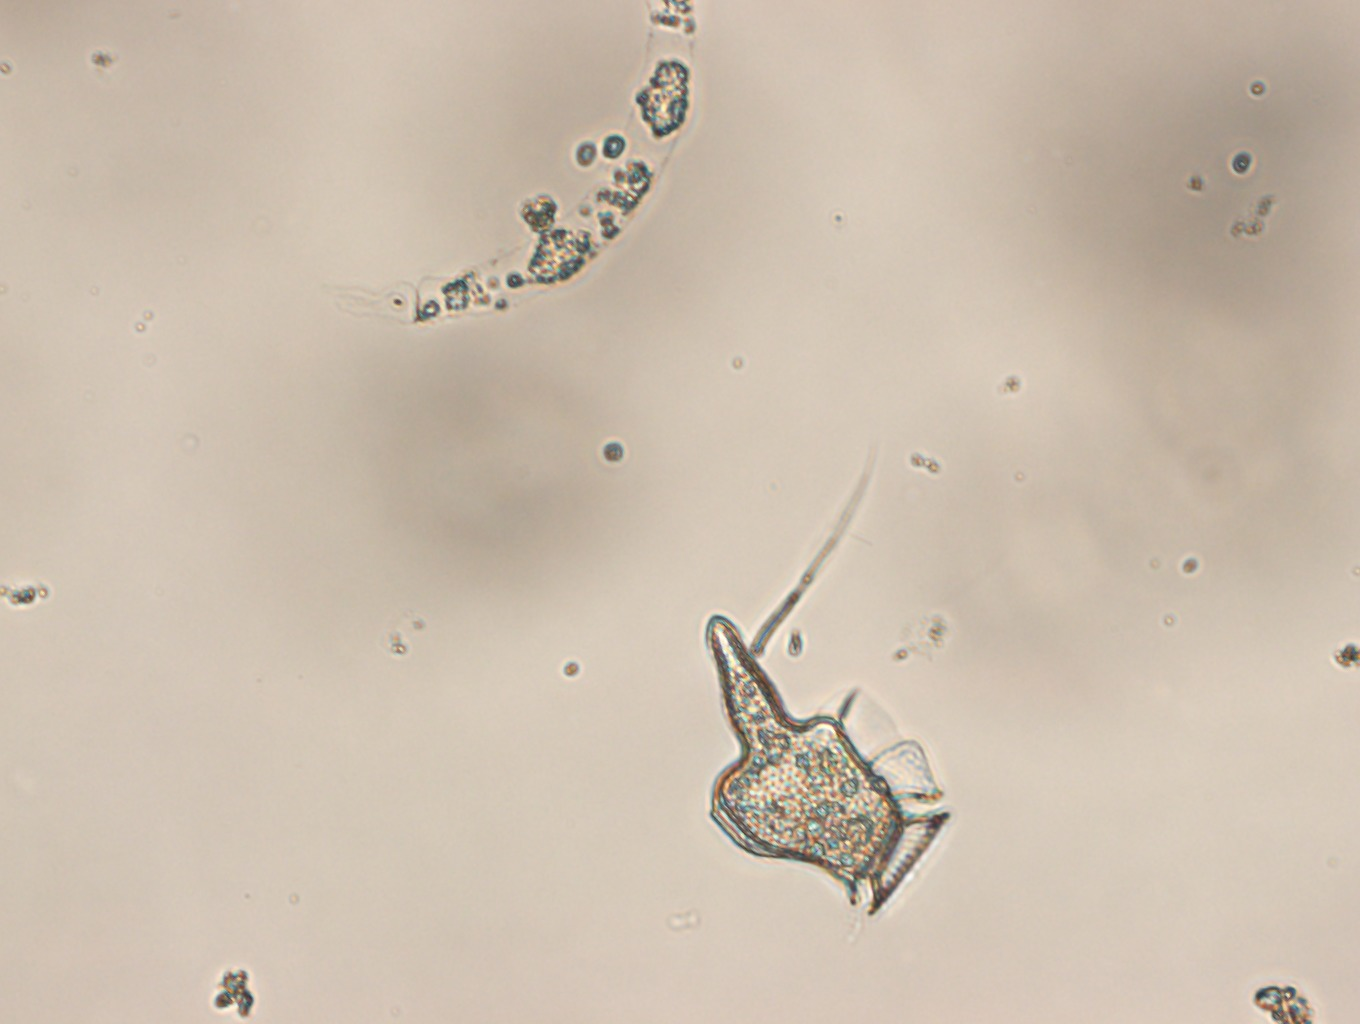dinophysis caudata: (702, 611, 951, 919)
